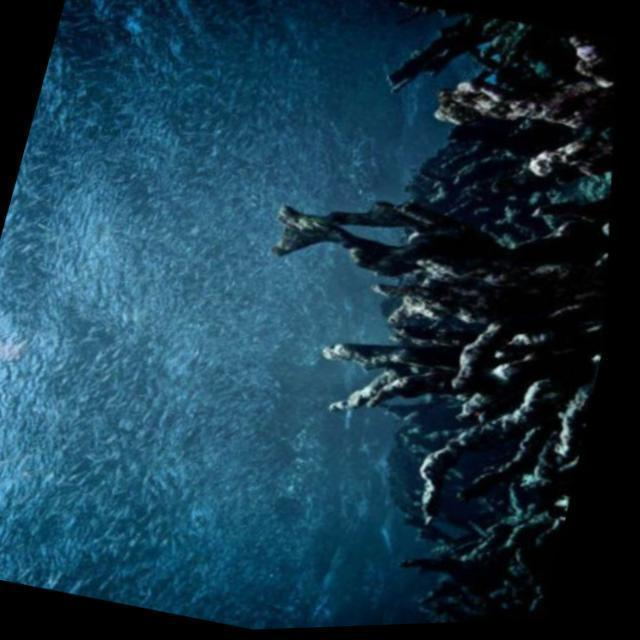Dead Coral: (270, 0, 640, 636)
